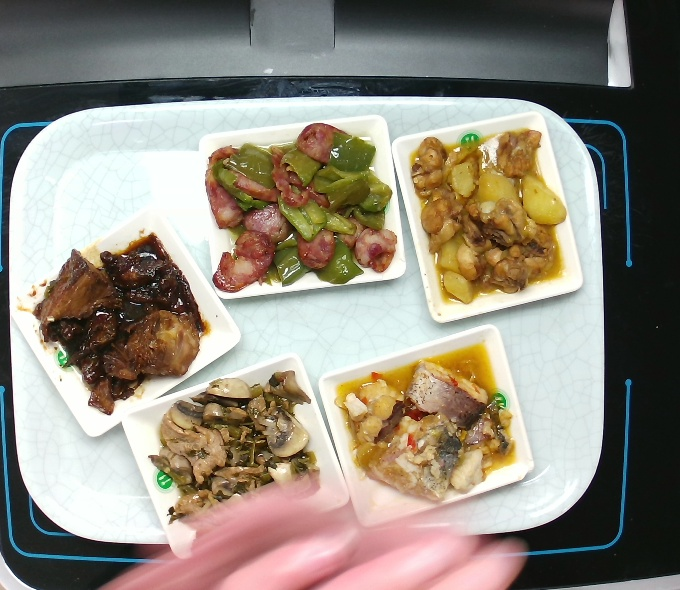wcq-JiangZhiYa: (35, 229, 203, 417)
wcq-QingJiaoXiangChang: (203, 119, 398, 293)
wcq-SuanCaiYu: (334, 338, 518, 504)
wcq-TuDouJiKuai: (409, 126, 569, 304)
